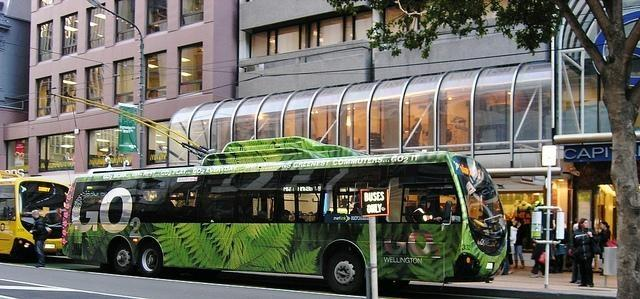bus: (62, 134, 508, 290), (1, 166, 70, 262)
